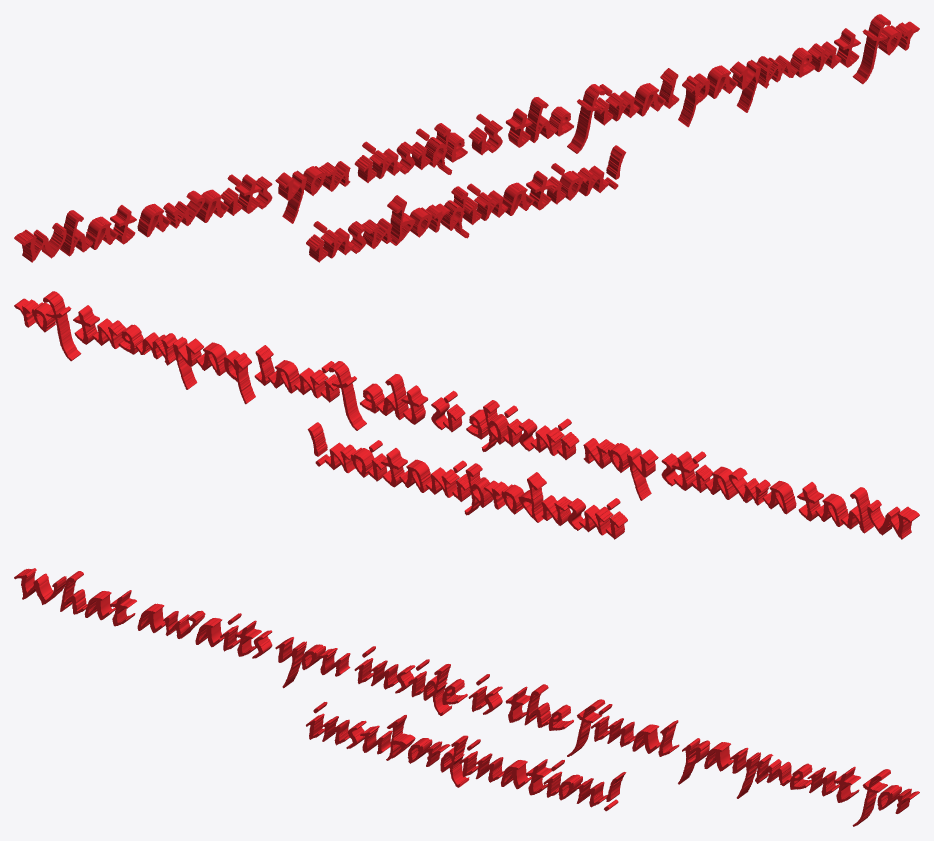
Rendered from portalWritting.fbx.
3 renders of one model, top to bottom at view 1: azimuth 30°, elevation 25°; view 2: azimuth 150°, elevation 25°; view 3: azimuth 330°, elevation 25°, orthographic.
Parts seen in each view (by area): view 1: node_id38 (×2); view 2: node_id38 (×2); view 3: node_id38 (×2).
Part boxes in pixels (x1,y1,x2,y2): node_id38 (×2): (14, 14, 919, 262); node_id38 (×2): (14, 291, 919, 539); node_id38 (×2): (14, 568, 919, 826).
Bounding box in the file's own units: 1.04 × 0.1287 × 0.0188.
